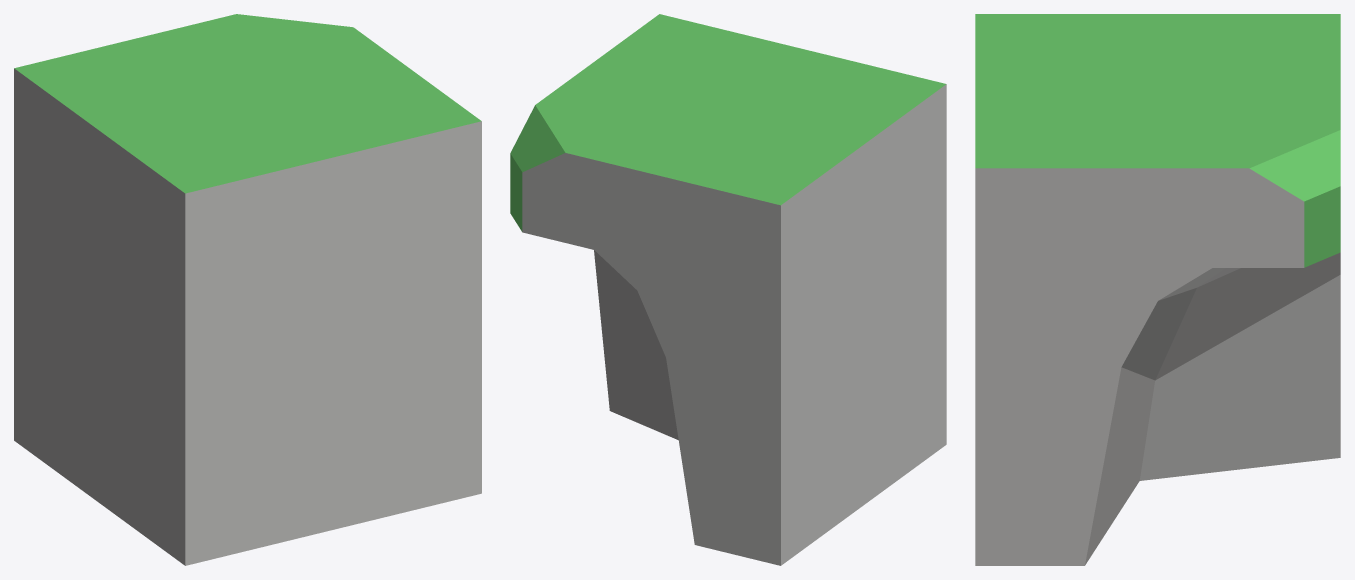
File: Cliff_Top_Corner_Inner_Sm.glb
3 renders of one model, left to right at view 1: azimuth 30°, elevation 25°; view 2: azimuth 150°, elevation 25°; view 3: azimuth 270°, elevation 25°, orthographic. The views are drawn at different scales.
Parts seen in each view (by area): view 1: object1; view 2: object1; view 3: object1.
Part boxes in pixels (left/top/right/bottom): object1: left=14, top=14, right=481, bottom=565; object1: left=510, top=14, right=946, bottom=565; object1: left=975, top=14, right=1340, bottom=565.
Size of the model in its own units: 1 by 1.2 by 1.
